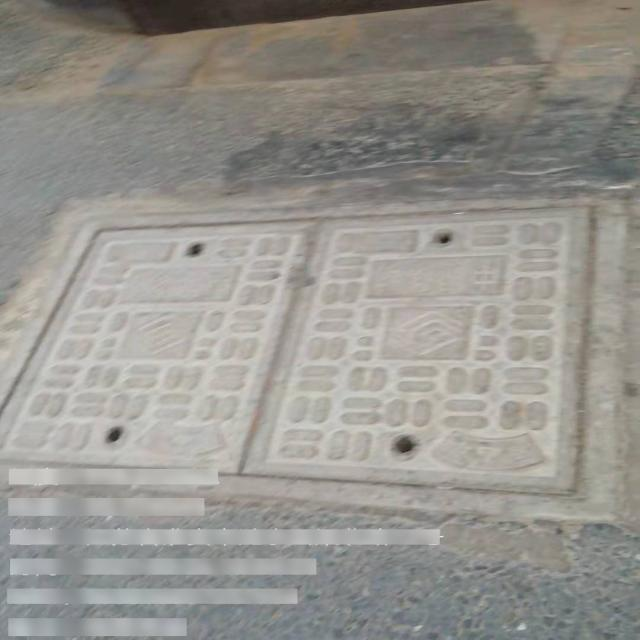Good: (3, 202, 617, 522)
